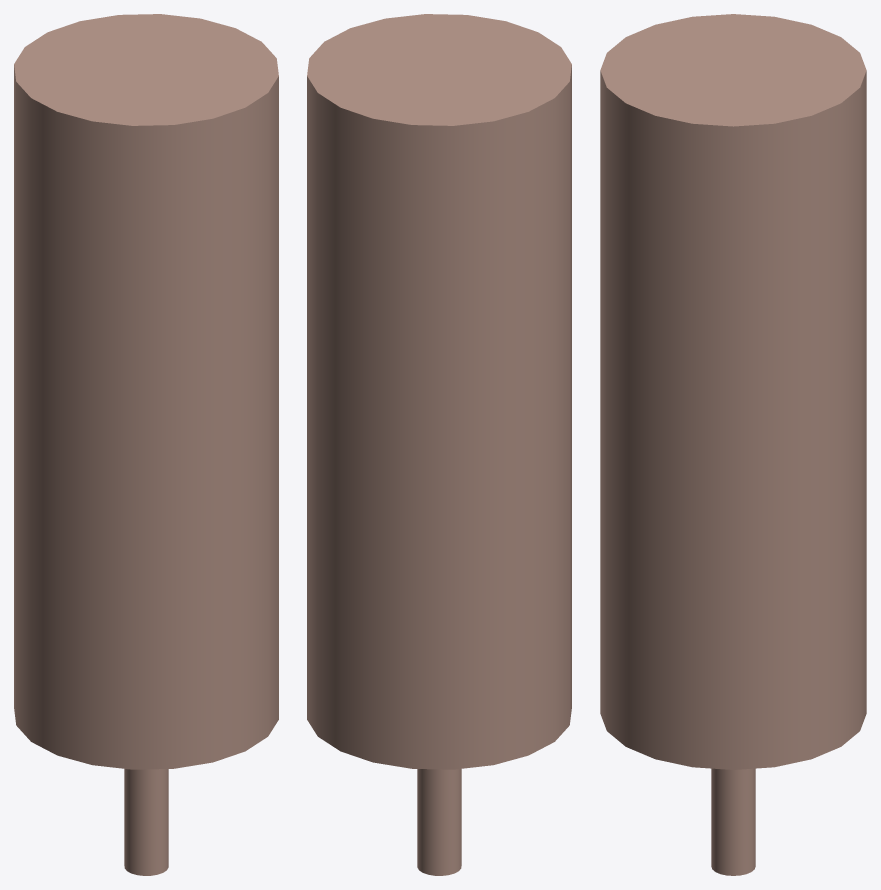
File: MediumTree_PH.fbx
The picture shows the model from 3 angles, left to right: view 1: azimuth 30°, elevation 25°; view 2: azimuth 150°, elevation 25°; view 3: azimuth 270°, elevation 25°; orthographic projection.
Visible parts, largest first — view 1: Tree__11_, Tree__10_; view 2: Tree__11_, Tree__10_; view 3: Tree__11_, Tree__10_.
Part boxes in pixels (x1=…): Tree__11_: x1=14, y1=14, x2=278, y2=769; Tree__10_: x1=124, y1=769, x2=168, y2=875; Tree__11_: x1=307, y1=14, x2=571, y2=769; Tree__10_: x1=417, y1=769, x2=461, y2=875; Tree__11_: x1=600, y1=14, x2=866, y2=769; Tree__10_: x1=711, y1=768, x2=755, y2=875.
Bounding box in the file's own units: 150 × 495 × 150.
